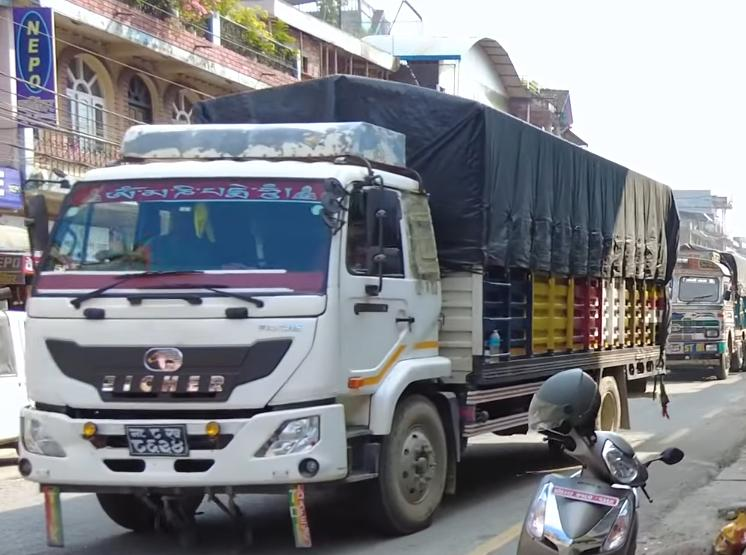scooter: (508, 409, 683, 555)
truck: (16, 73, 680, 542), (662, 242, 739, 380)
